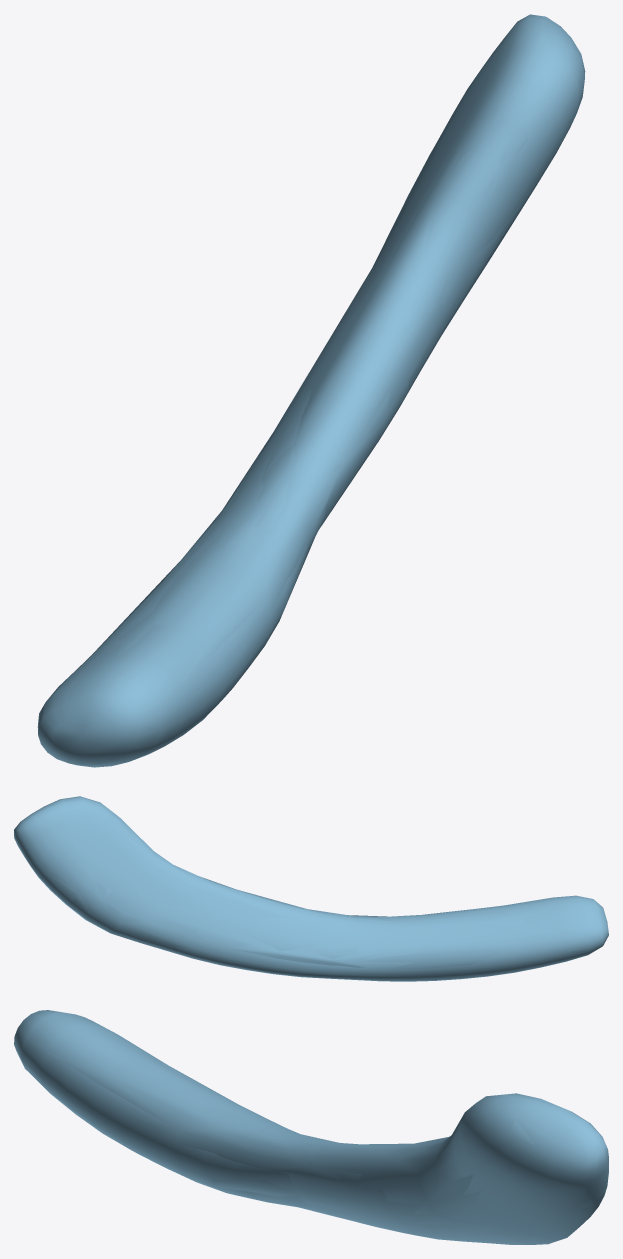
The picture shows the model from 3 angles, top to bottom: view 1: azimuth 30°, elevation 25°; view 2: azimuth 150°, elevation 25°; view 3: azimuth 270°, elevation 25°; orthographic projection. The views are drawn at different scales.
Parts seen in each view (by area): view 1: CC L6, CC L6 low; view 2: CC L6, CC L6 low; view 3: CC L6, CC L6 low.
Part boxes in pixels (x1,y1,x2,y2): CC L6: [37, 14, 585, 767]; CC L6 low: [38, 17, 584, 761]; CC L6: [14, 796, 608, 981]; CC L6 low: [14, 796, 604, 970]; CC L6: [14, 1010, 608, 1244]; CC L6 low: [15, 1013, 607, 1243].
Bounding box in the file's own units: 13.38 × 5.5 × 10.3.
